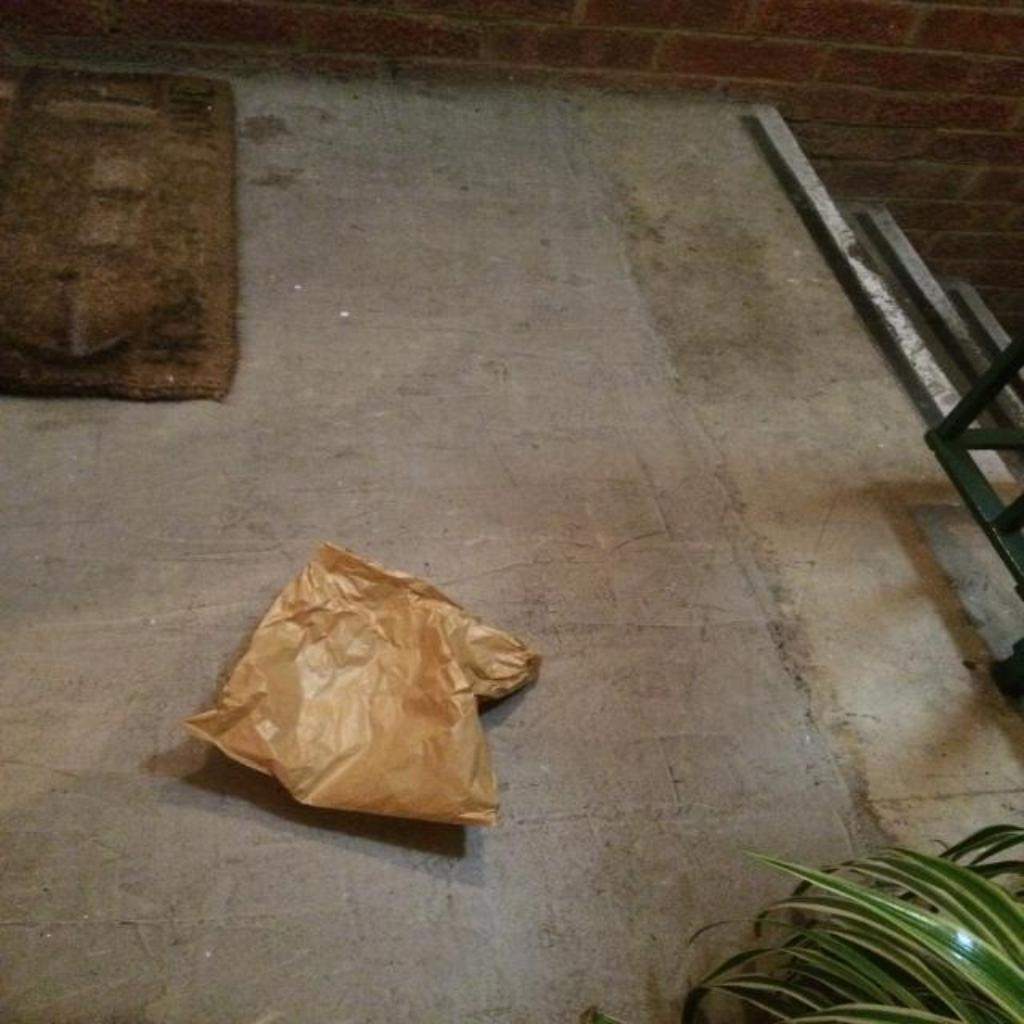garbage: (178, 539, 544, 834)
